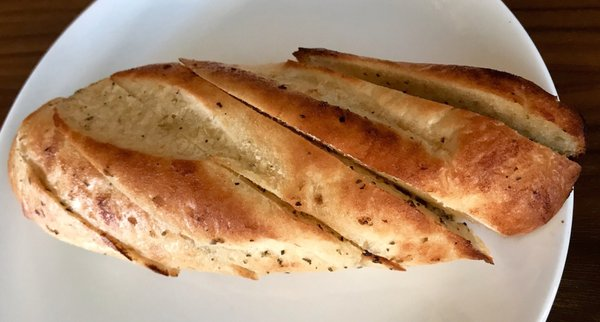curry: (112, 1, 599, 318)
sushi: (14, 60, 533, 276)
